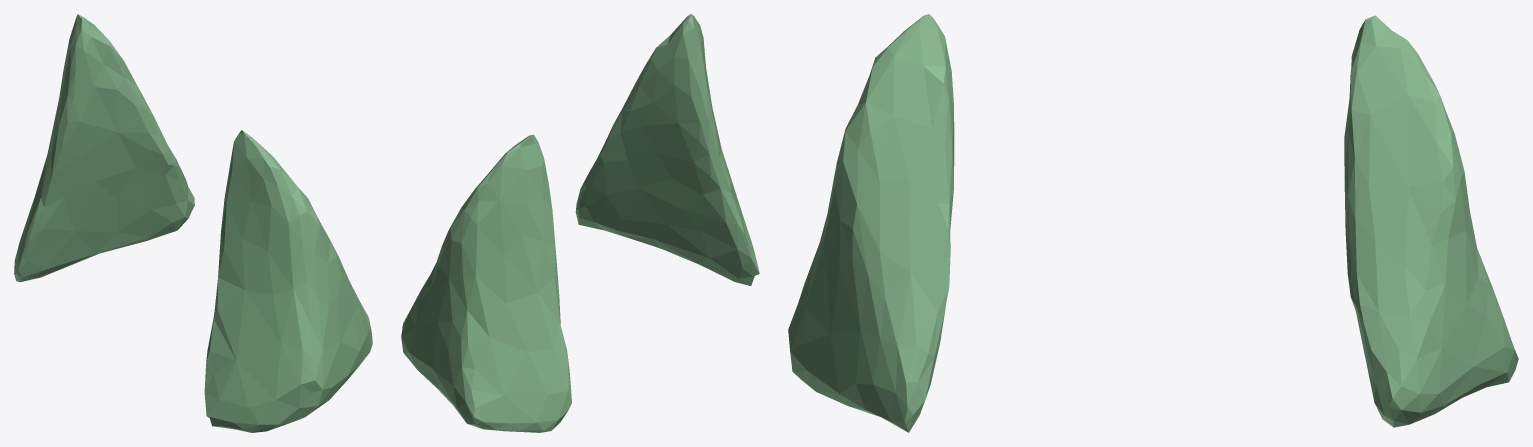
The picture shows the model from 3 angles, left to right: view 1: azimuth 30°, elevation 25°; view 2: azimuth 150°, elevation 25°; view 3: azimuth 270°, elevation 25°; orthographic projection. The views are drawn at different scales.
Parts seen in each view (by area): view 1: 1054.obj; view 2: 1054.obj; view 3: 1054.obj.
Boxes of the visible parts, left/top/right/bottom form: 1054.obj: left=14, top=14, right=372, bottom=432; 1054.obj: left=401, top=14, right=759, bottom=432; 1054.obj: left=788, top=14, right=1518, bottom=432.
Size of the model in its own units: 682 by 1030 by 1790.
